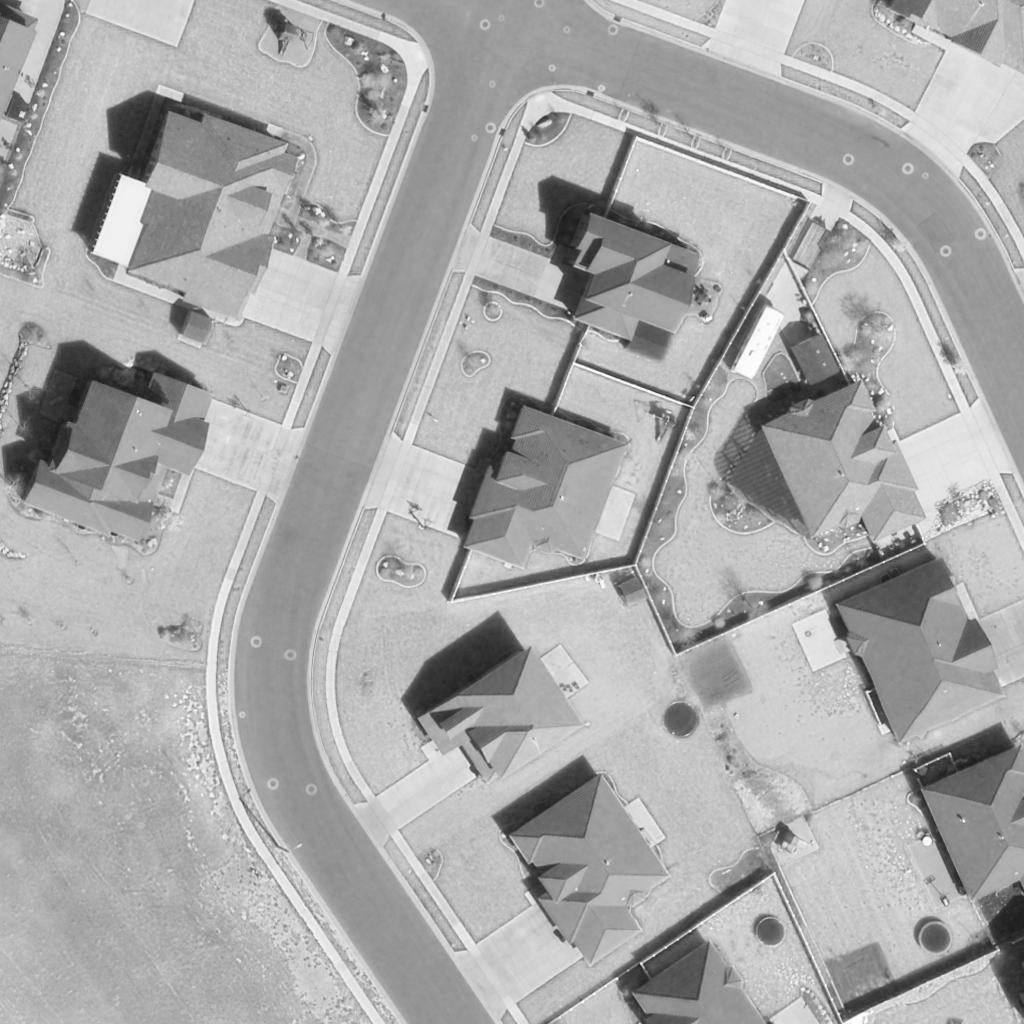vehicle: (729, 304, 787, 382)
